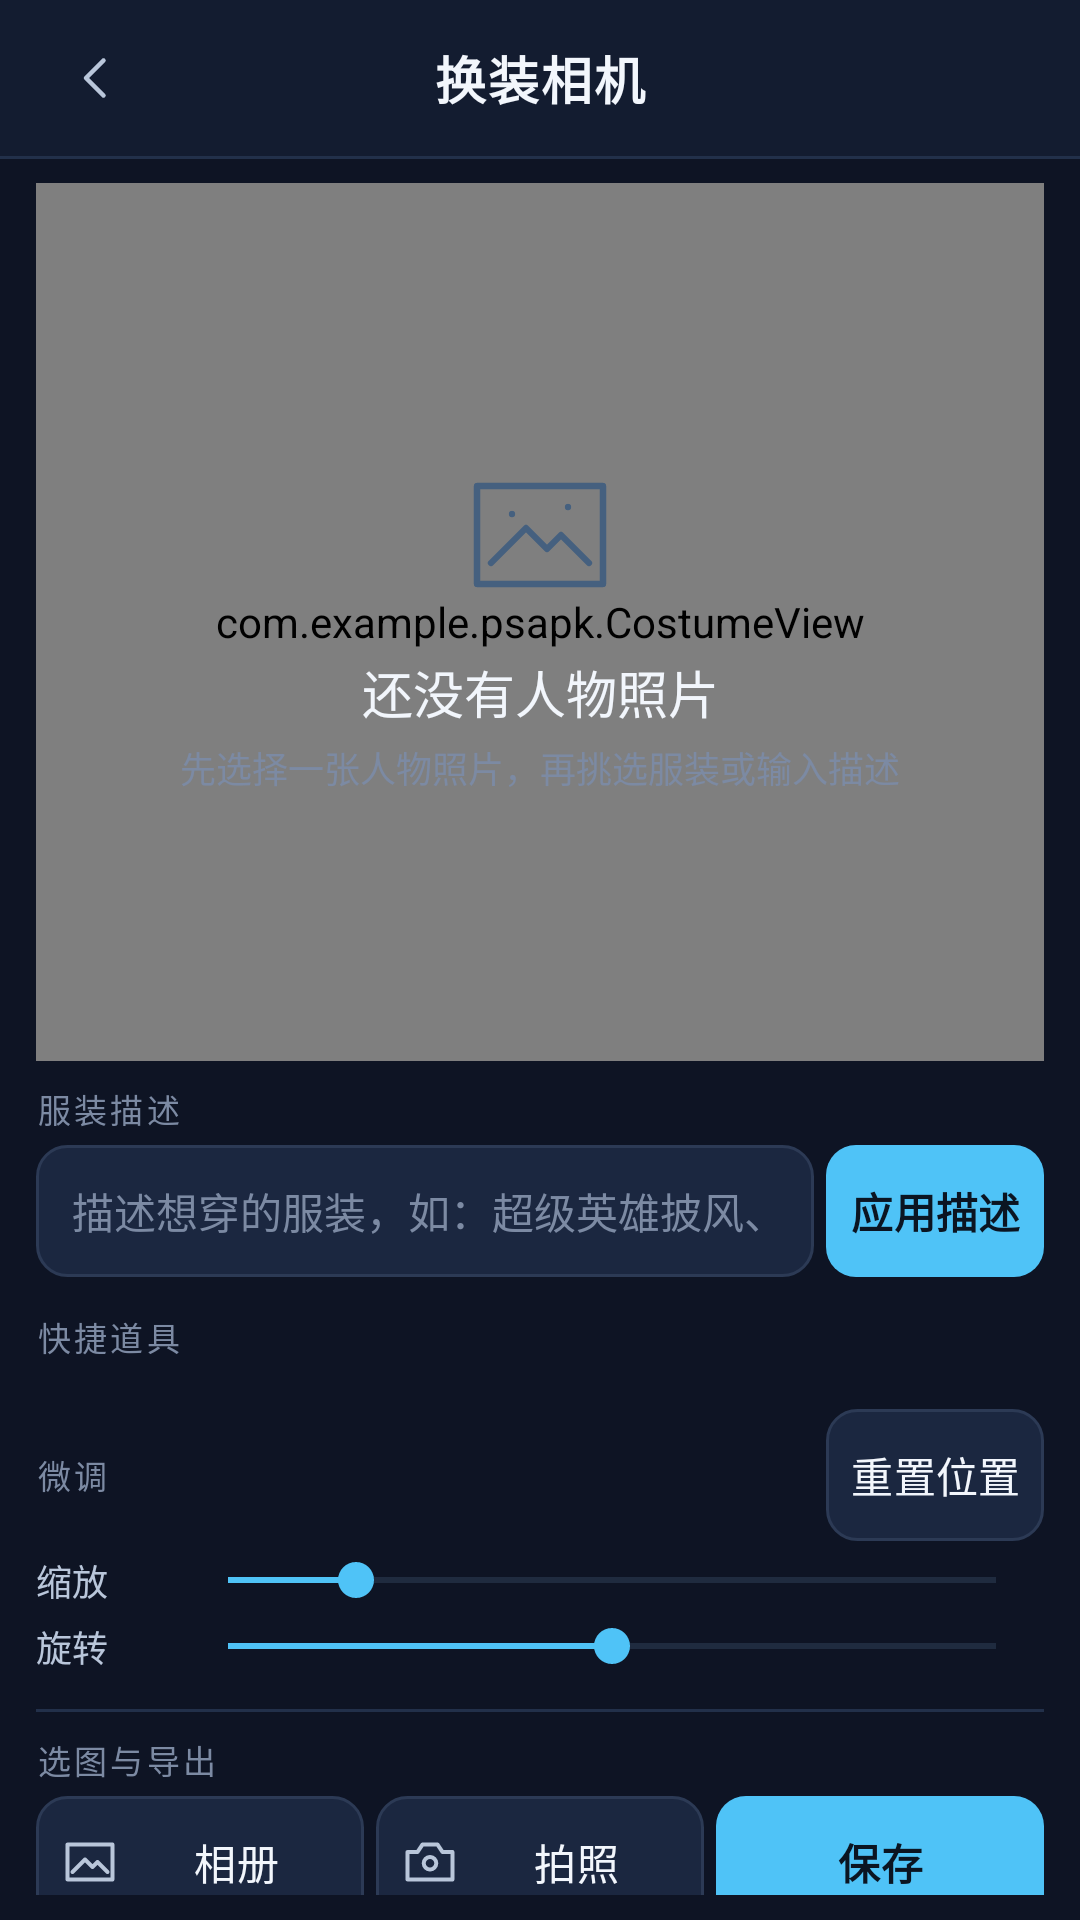

Icon click points for this 1080px×1920px phone screenshot, format [x,y]:
返回上一页: [95,78]
